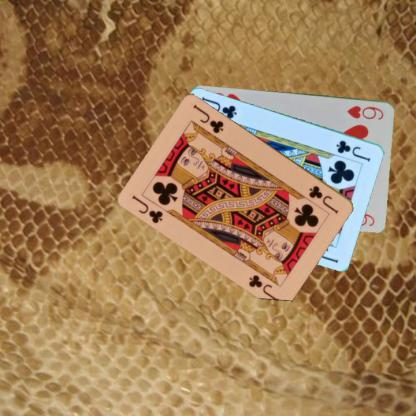6h: (344, 103, 385, 121)
Jc: (129, 192, 165, 225), (306, 183, 340, 215), (333, 137, 372, 163)
